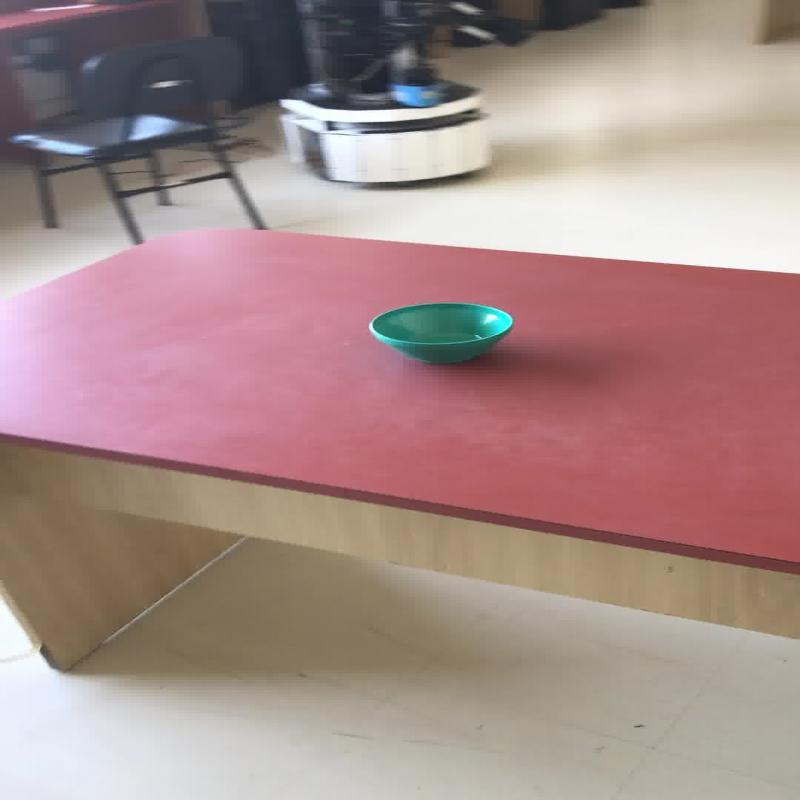bowl: (366, 300, 513, 364)
